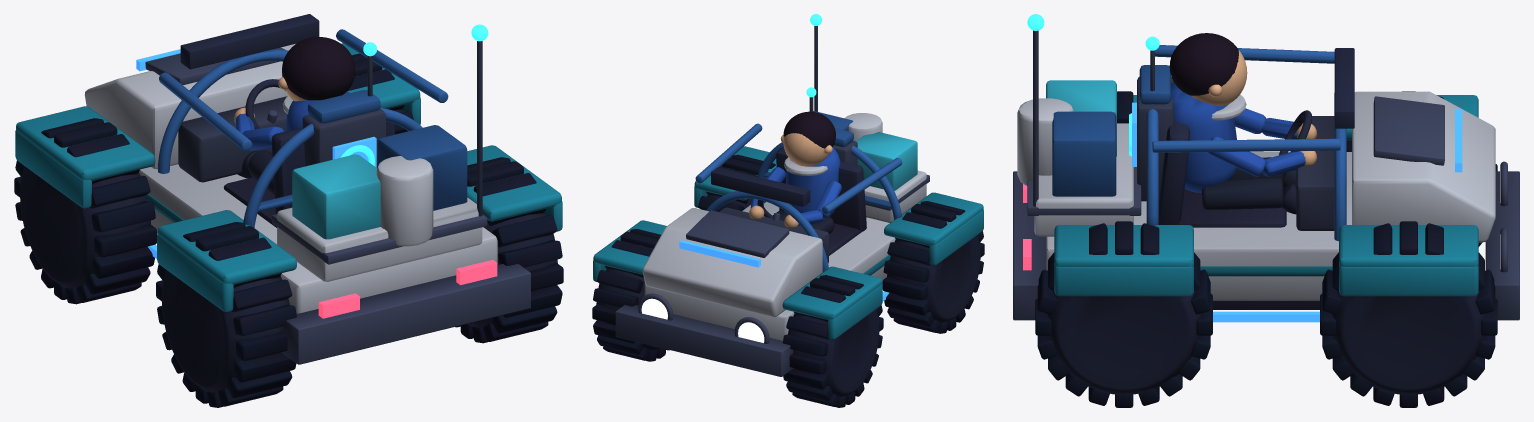
The model's file is rover.glb.
3 views of the same model, side by side, from view 1: azimuth 30°, elevation 25°; view 2: azimuth 150°, elevation 25°; view 3: azimuth 270°, elevation 25° (orthographic). The views are drawn at different scales.
Visible parts, largest first — view 1: Rover_paint, Rover_metal, wheel_FL, wheel_RL, wheel_RR, Rover_lit, Rover_glow_red, wheel_FR, Rover_glow_blue, Rover_glow_cyan; view 2: Rover_paint, Rover_metal, wheel_RL, wheel_FL, Rover_lit, wheel_FR, wheel_RR, Rover_glow_blue, Rover_glow_white; view 3: Rover_paint, Rover_metal, wheel_FR, wheel_RR, Rover_lit, Rover_glow_blue, Rover_glow_cyan, wheel_RL.
Part boxes in pixels (x1,y1,x2,y2): Rover_paint: [15, 43, 562, 313]; Rover_metal: [145, 14, 530, 364]; wheel_FL: [14, 118, 156, 304]; wheel_RL: [156, 222, 296, 407]; wheel_RR: [455, 157, 563, 343]; Rover_lit: [223, 37, 394, 227]; Rover_glow_red: [318, 260, 497, 318]; wheel_FR: [348, 53, 413, 134]; Rover_glow_blue: [136, 49, 376, 258]; Rover_glow_cyan: [341, 24, 488, 165]; Rover_paint: [593, 111, 983, 340]; Rover_metal: [615, 26, 929, 376]; wheel_RL: [882, 201, 984, 333]; wheel_FL: [783, 275, 883, 407]; Rover_lit: [749, 111, 866, 255]; wheel_FR: [592, 229, 669, 361]; wheel_RR: [698, 154, 775, 211]; Rover_glow_blue: [679, 240, 889, 301]; Rover_glow_white: [641, 298, 764, 342]; Rover_paint: [1017, 65, 1495, 300]; Rover_metal: [1013, 30, 1519, 320]; wheel_FR: [1320, 221, 1497, 407]; wheel_RR: [1035, 221, 1212, 407]; Rover_lit: [1158, 33, 1316, 227]; Rover_glow_blue: [1132, 102, 1462, 322]; Rover_glow_cyan: [1027, 14, 1159, 156]; wheel_RL: [1117, 91, 1133, 123].
Size of the model in its own units: 2.77 by 2.73 by 3.56.
